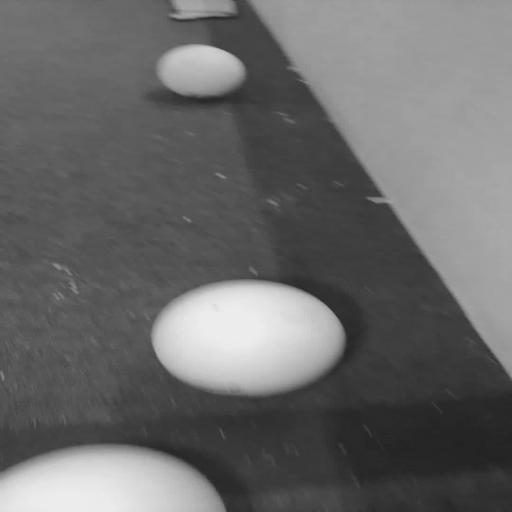fuel: (155, 280, 342, 396), (0, 442, 230, 511), (153, 44, 246, 97)
